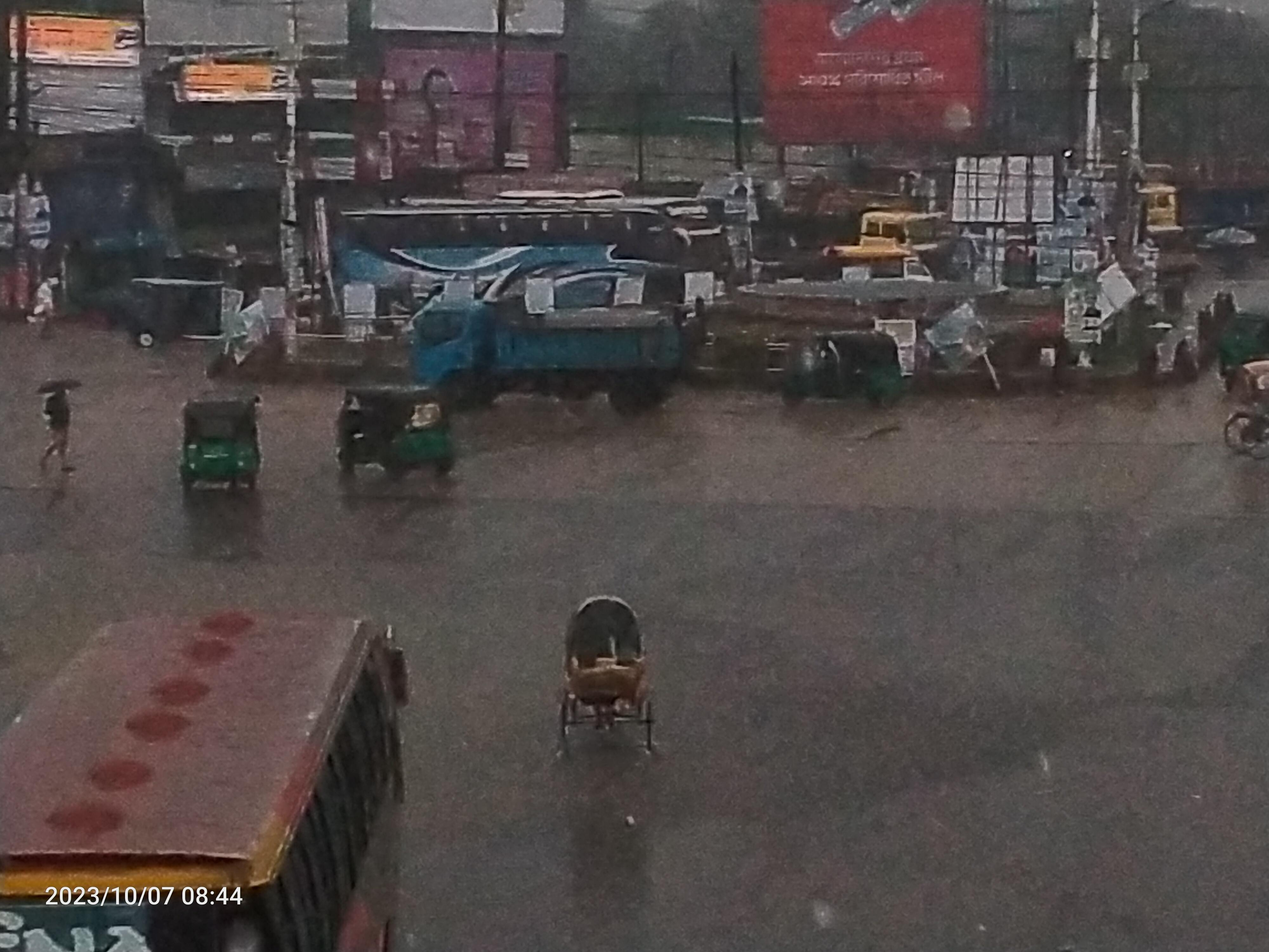Bus: (310, 169, 736, 311)
Car: (523, 569, 716, 784)
Truck: (405, 279, 698, 447)
